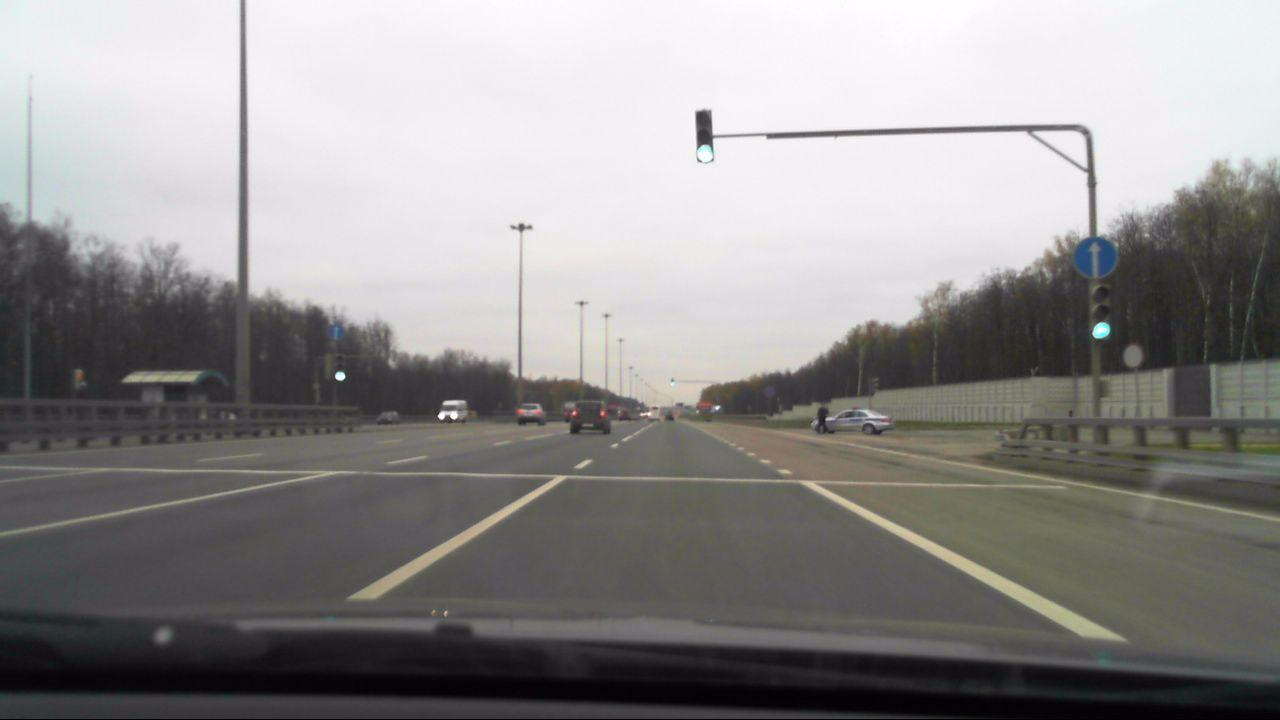4_1_1: (1071, 233, 1120, 281)
